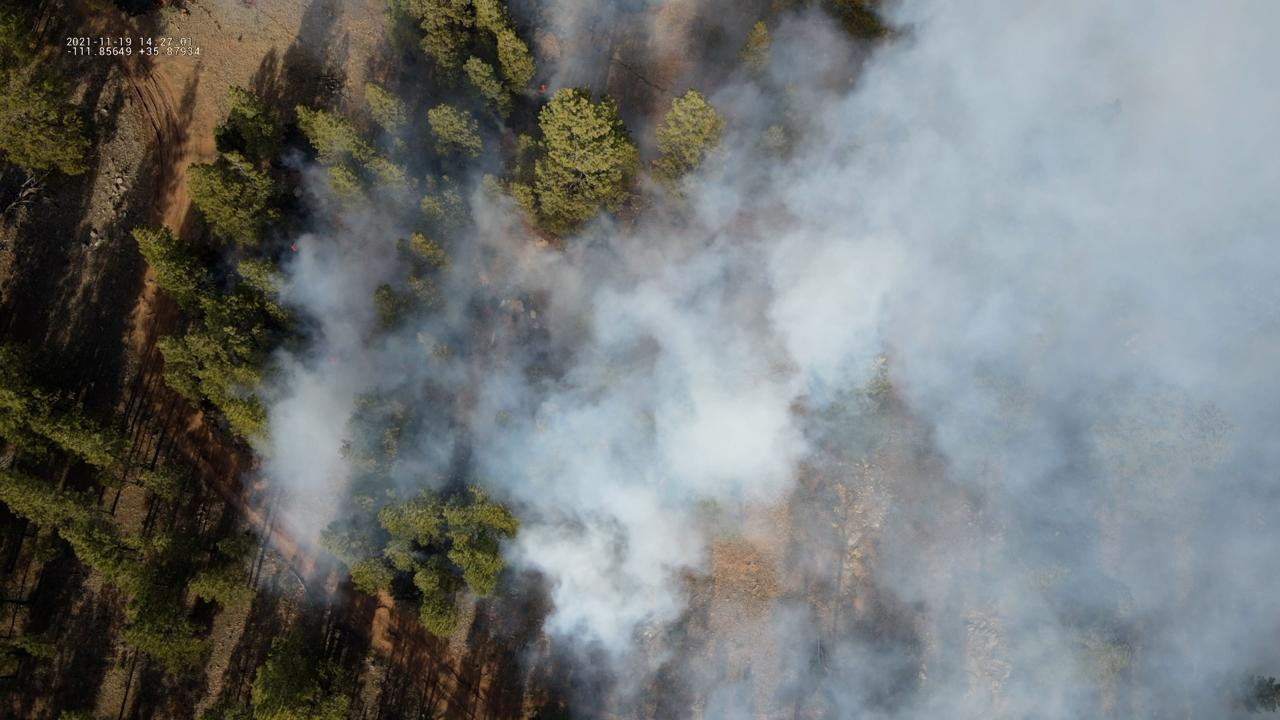fire: (536, 83, 550, 94), (288, 242, 298, 252)
smoke: (212, 0, 1280, 720)
